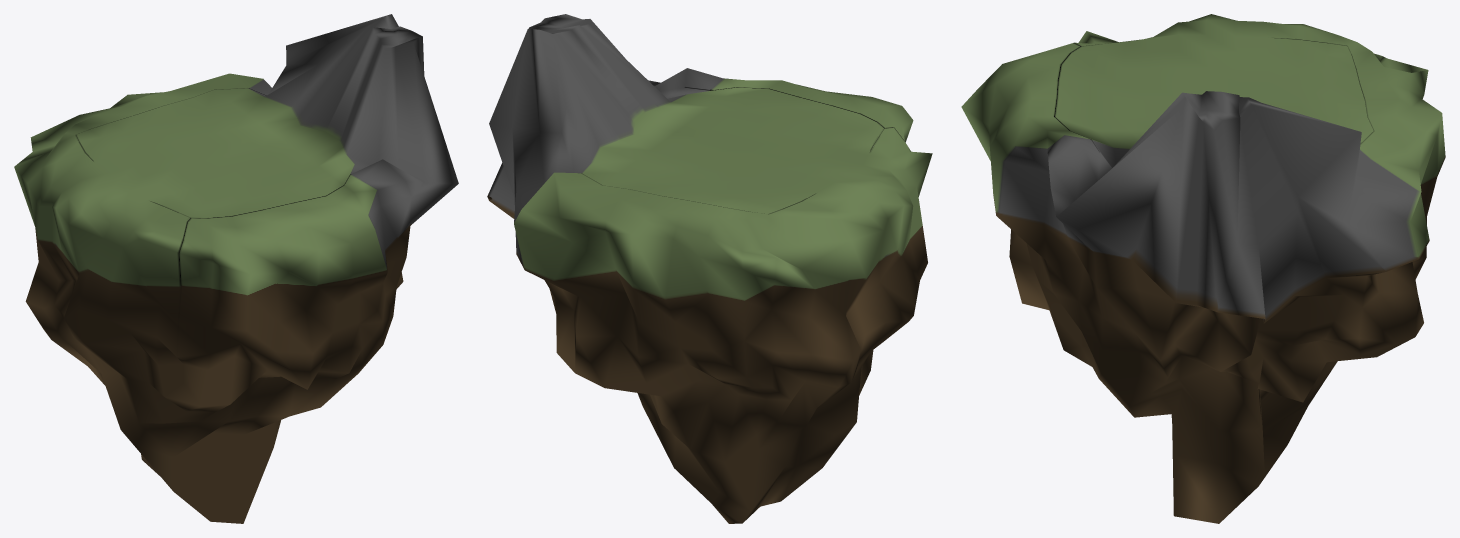
The model's file is Floating Island.glb.
3 renders of one model, left to right at view 1: azimuth 30°, elevation 25°; view 2: azimuth 150°, elevation 25°; view 3: azimuth 270°, elevation 25°, orthographic. The views are drawn at different scales.
Parts seen in each view (by area): view 1: Island; view 2: Island; view 3: Island.
Part boxes in pixels (x1,y1,x2,y2): Island: [14, 14, 458, 523]; Island: [487, 14, 932, 523]; Island: [961, 14, 1445, 523].
Bounding box in the file's own units: 183 × 203 × 170.
1 material, 1 textured.
